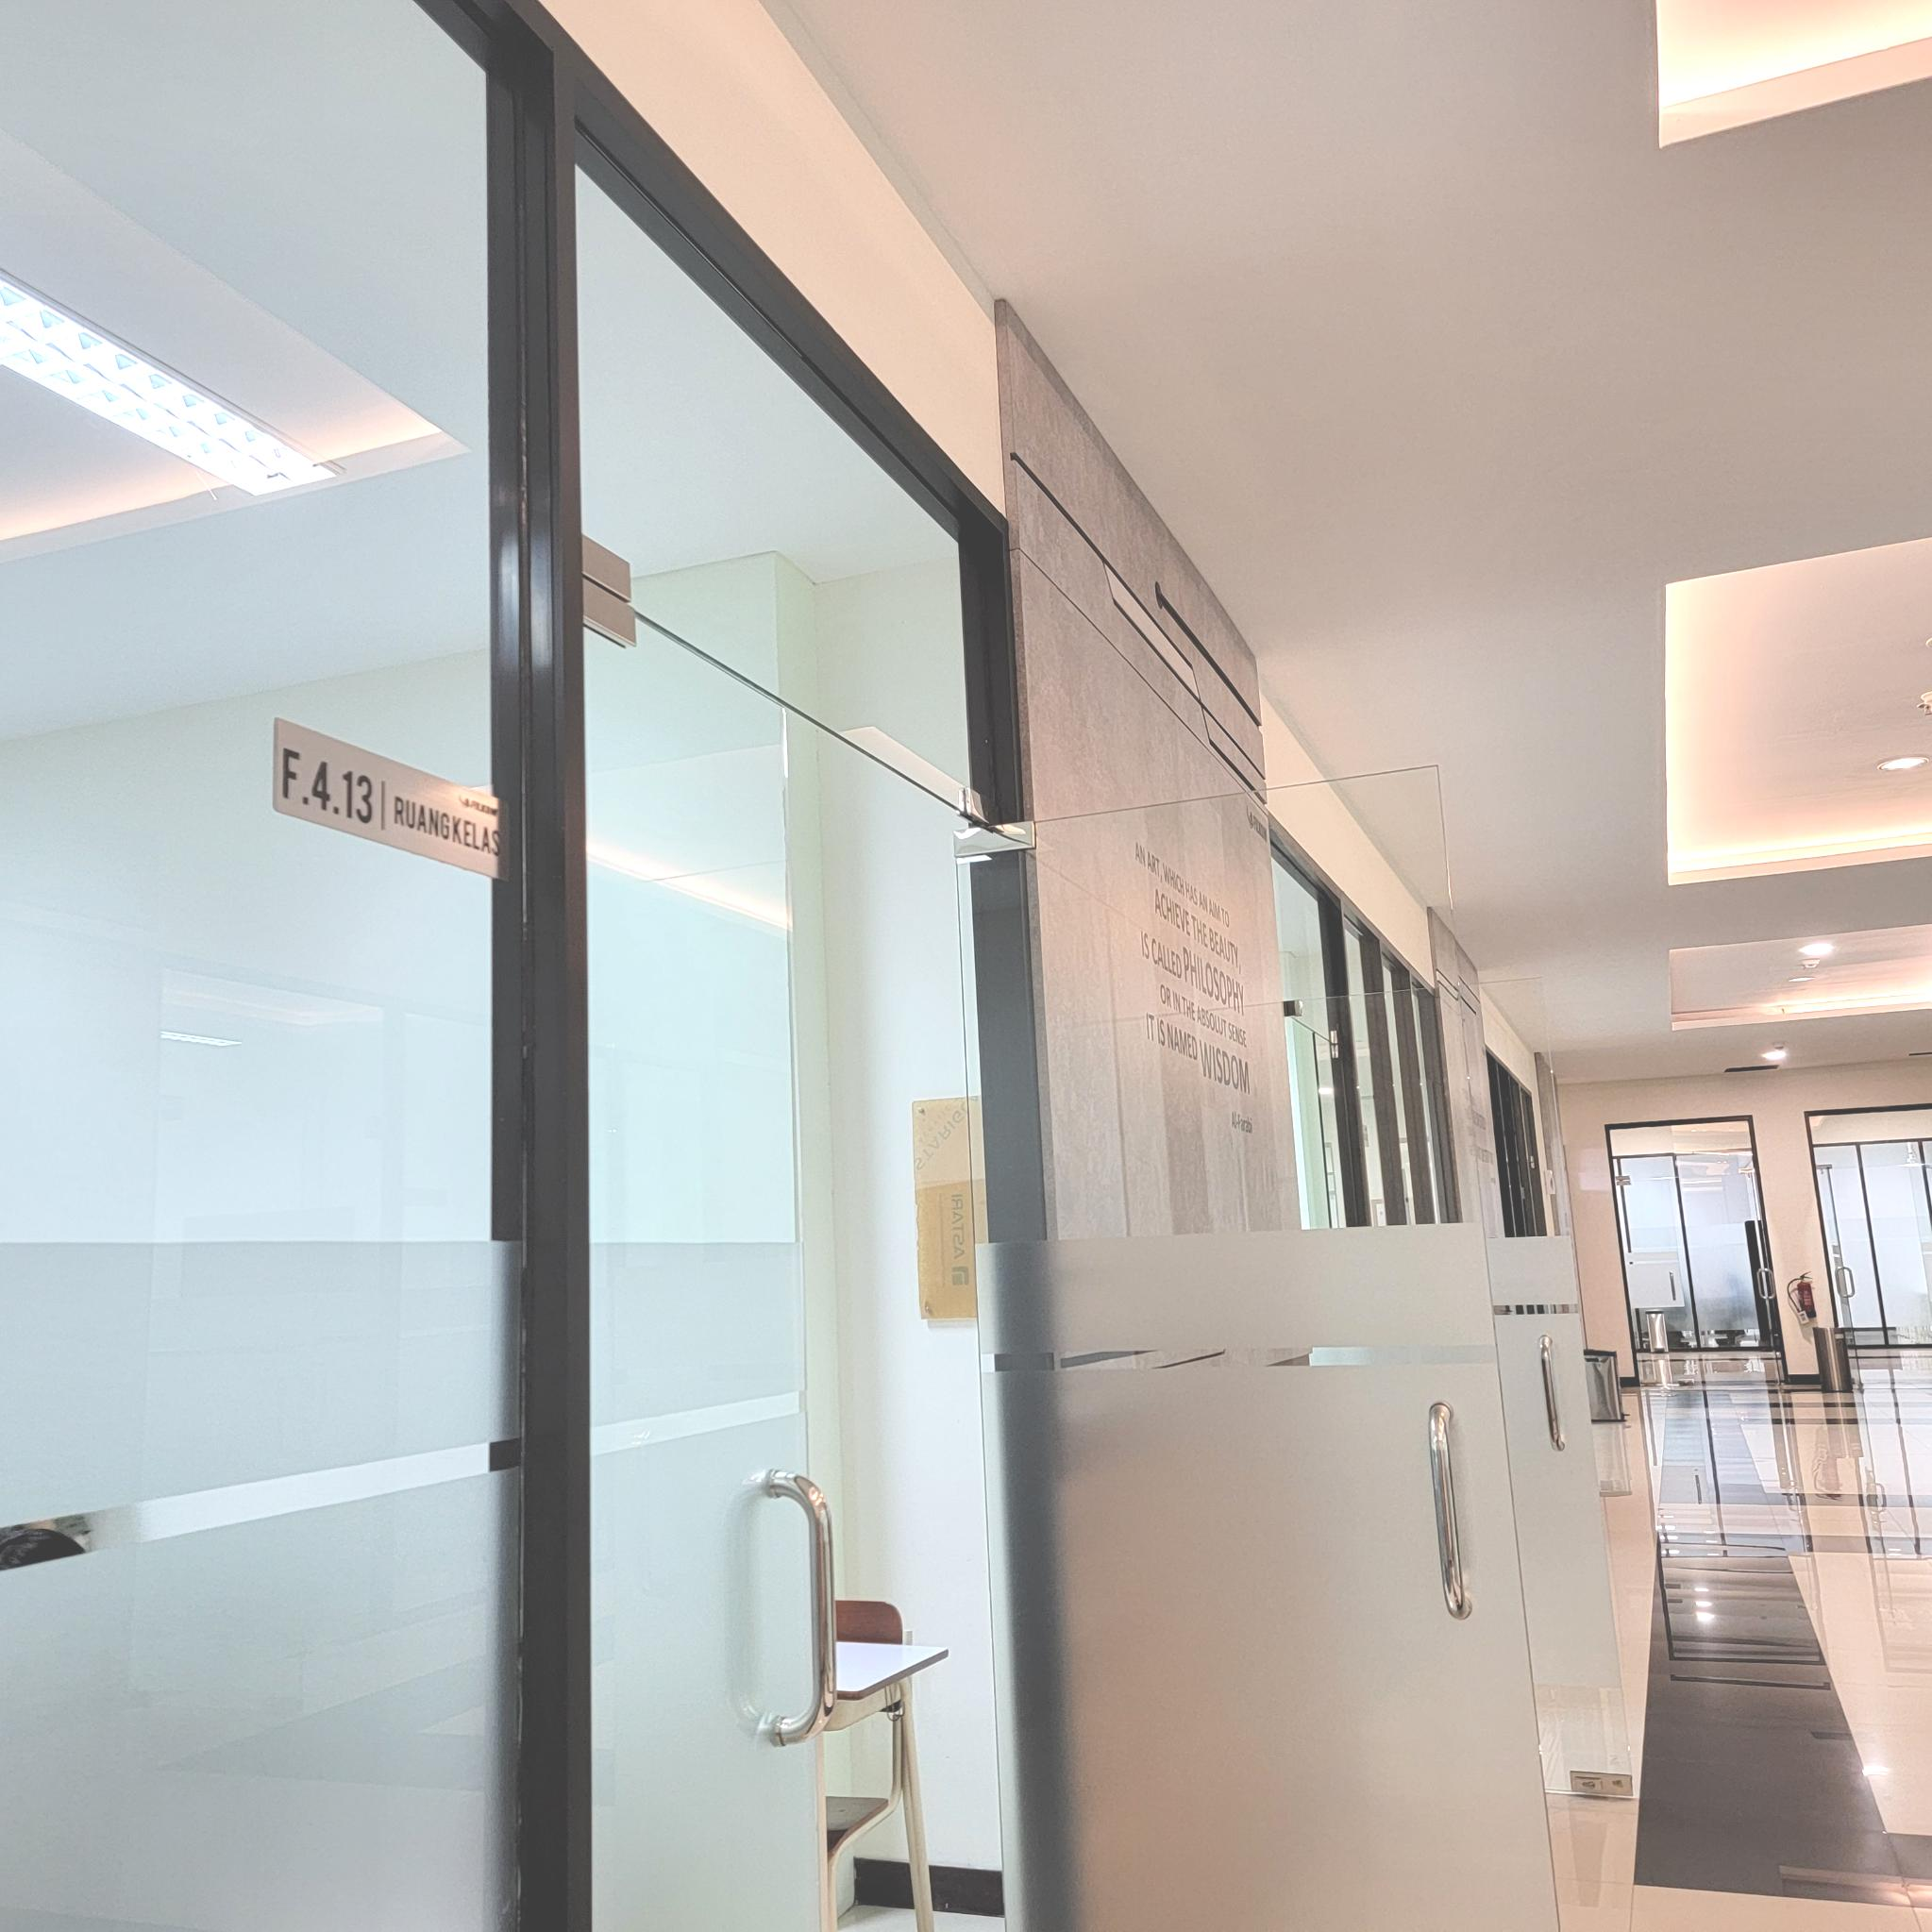plate: (272, 715, 508, 885)
